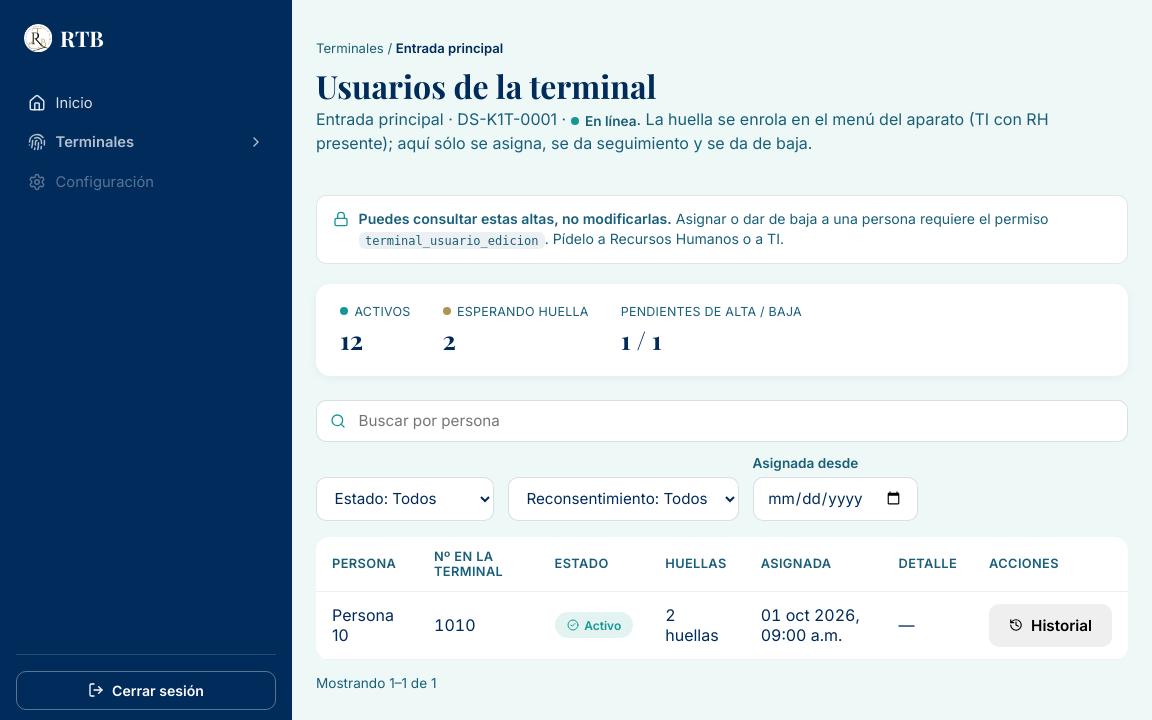
UsuariosTerminalPage › acciones (F3) › Historial abre la bitácora del alta (también con sólo lectura)
The image size is (1152, 720).
Step 1. Click the button "Historial" → (1051, 625), box [989,604,1112,646]
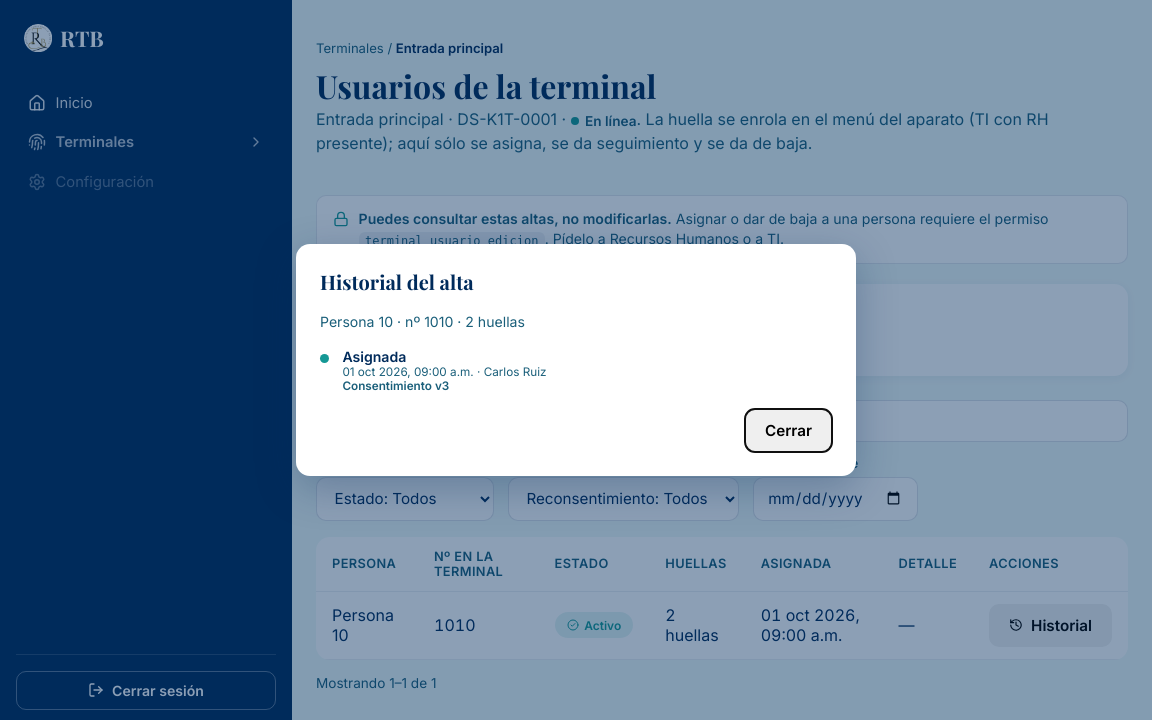
Result: the text "Asignada" is shown at [342,348,406,365]
Result: the text "Consentimiento v3" is shown at [342,379,449,393]
